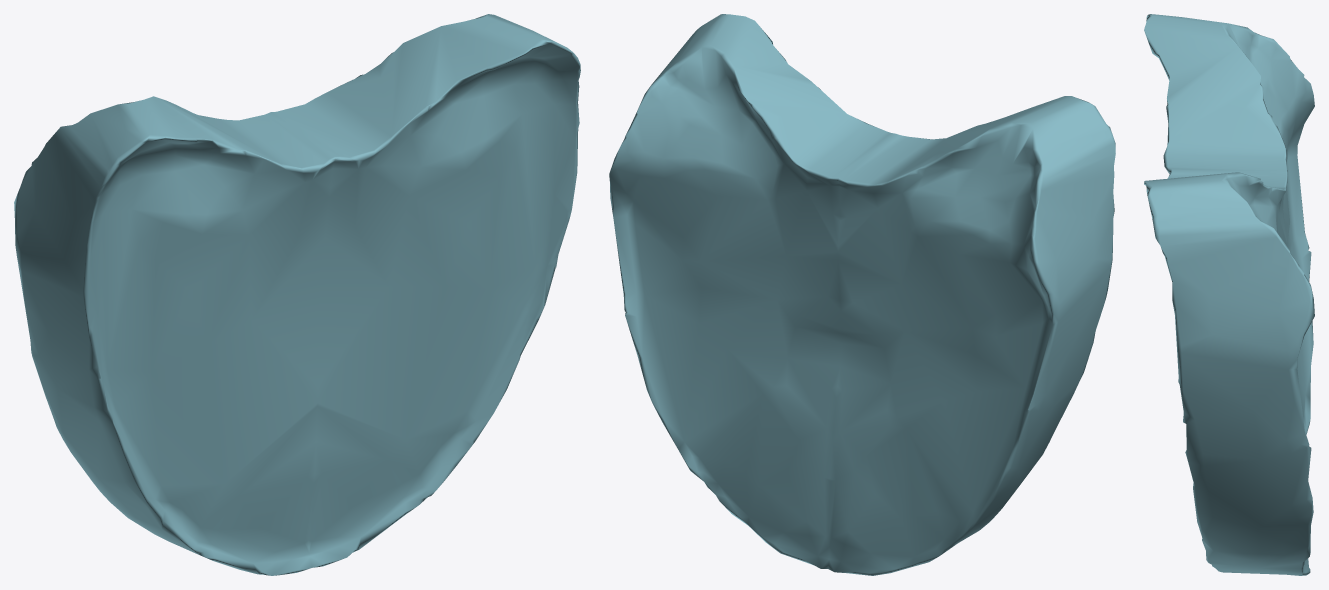
3 renders of one model, left to right at view 1: azimuth 30°, elevation 25°; view 2: azimuth 150°, elevation 25°; view 3: azimuth 270°, elevation 25°, orthographic. The views are drawn at different scales.
Visible parts, largest first — view 1: 胸5—胸6椎间盘; view 2: 胸5—胸6椎间盘; view 3: 胸5—胸6椎间盘.
Part boxes in pixels (x1,y1,x2,y2): 胸5—胸6椎间盘: [14, 14, 580, 575]; 胸5—胸6椎间盘: [609, 14, 1115, 575]; 胸5—胸6椎间盘: [1144, 14, 1314, 575].
Bounding box in the file's own units: 0.0473 × 0.0464 × 0.0158.
